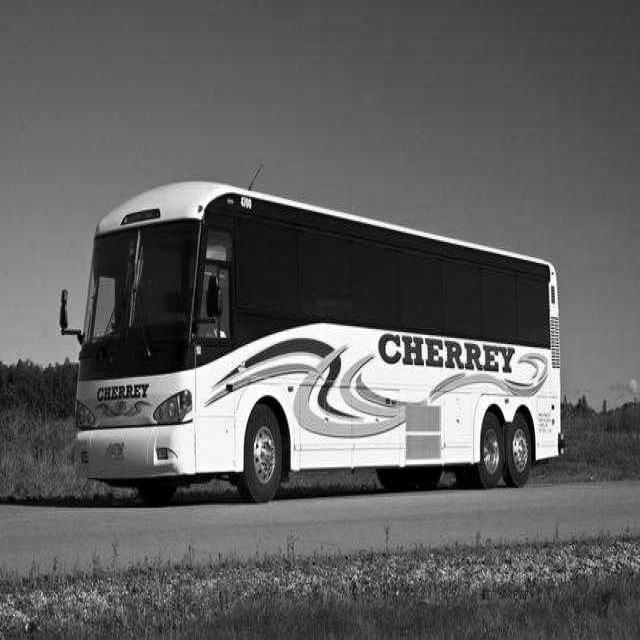Bus: (75, 182, 564, 503)
